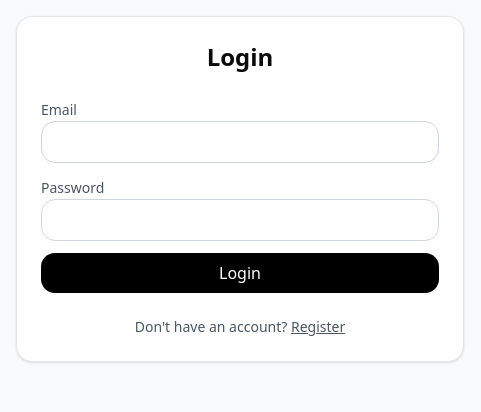
Test: LoginPage › shows error message when login fails
Type "wrong@example.com" into the field labelled "Email". click: (240, 142)
box: 41,121 -> 439,163
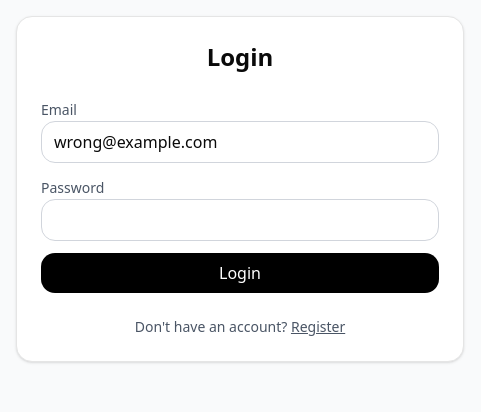
Type "wrongpass" into the password field labelled "Password". click: (240, 220)
box: 41,199 -> 439,241
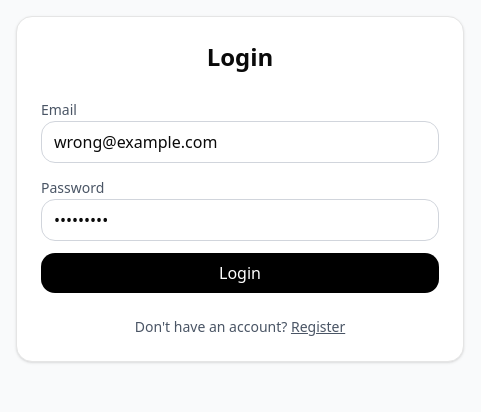
Click the button "Login". click: (240, 273)
box: 41,253 -> 439,293
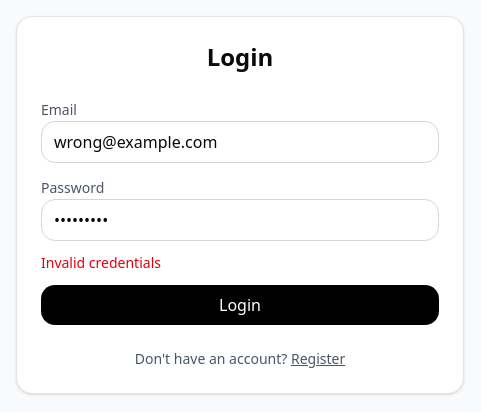
Check: the text "Invalid credentials" is shown, box 41,253 -> 161,272
